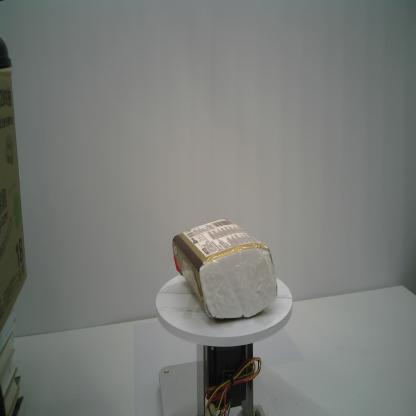Tissue: (171, 219, 278, 320)
